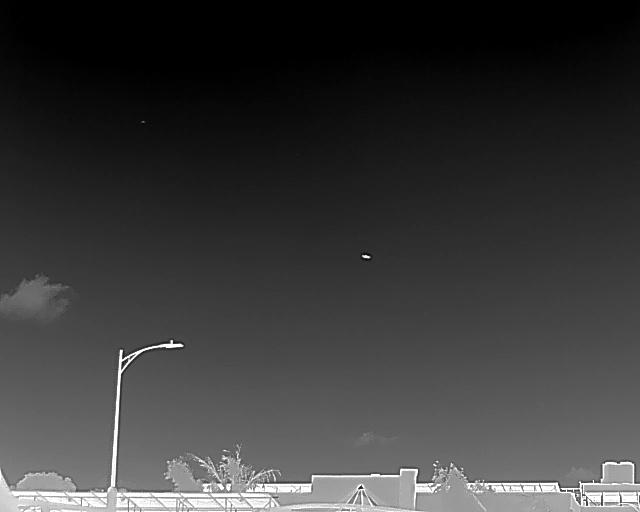fpv-drone: (361, 253, 372, 260)
